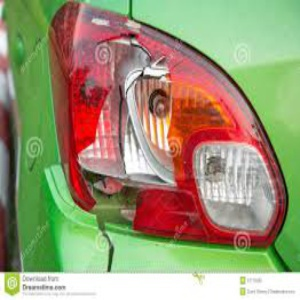tail_lights: (47, 5, 280, 248)
